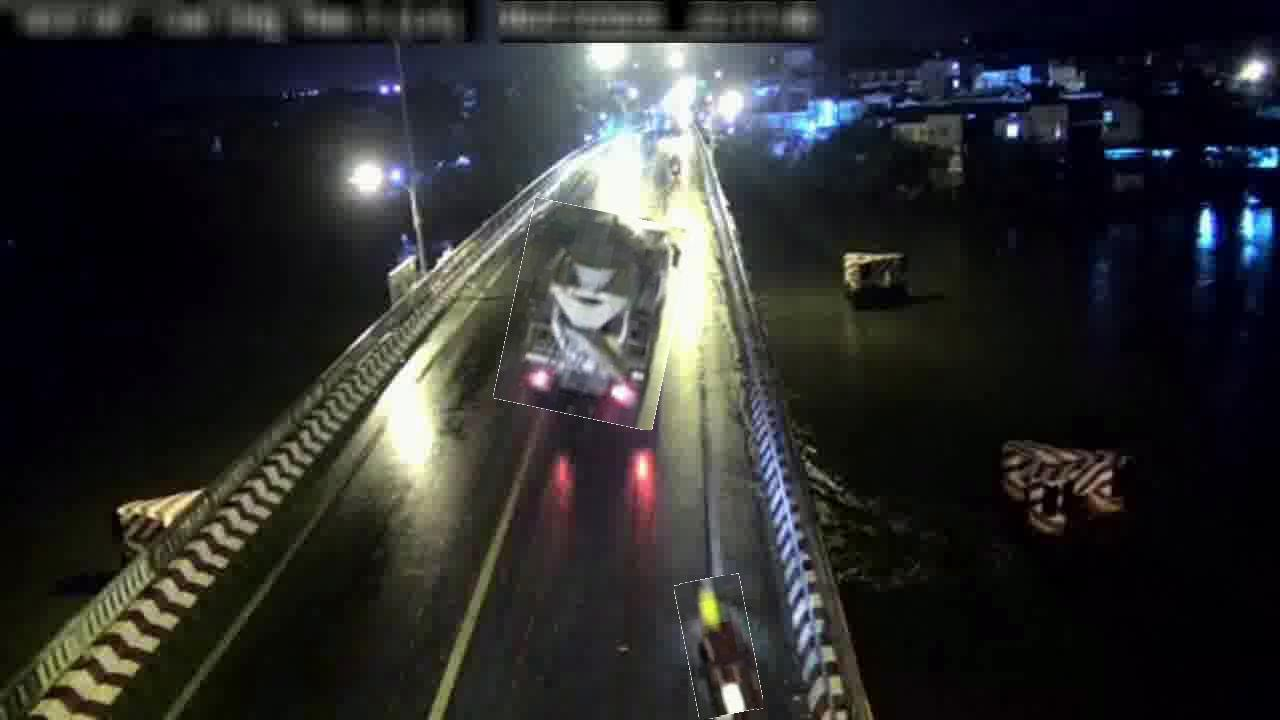8: (503, 205, 685, 424)
motorbike: (680, 576, 758, 718)
